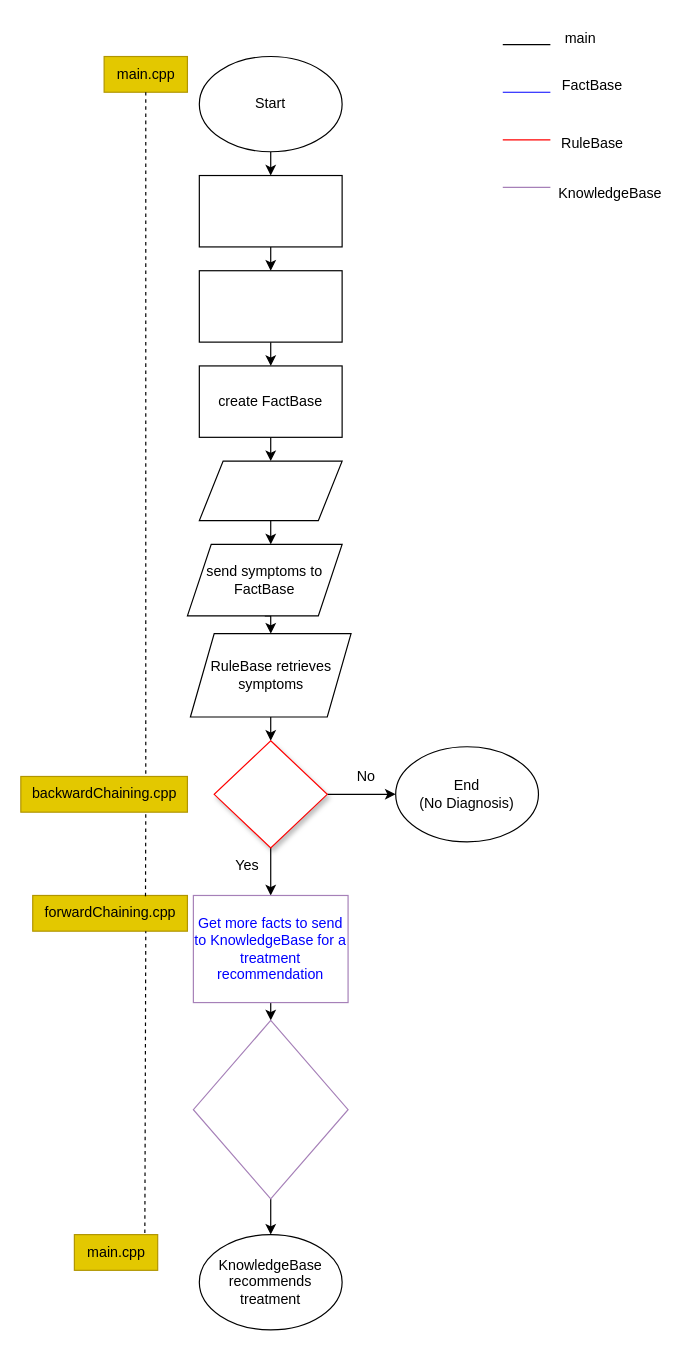
Image size: 696x1351. Some labels were removed from this diagram. Here are the shapes that lost their labels. From the top down, the centre of each, then its label:
the point at 270,210: create RuleBase
the point at 270,306: create KnowledgeBase
the point at 270,490: Greeting
the point at 271,795: Diagnosis?
the point at 270,1109: KnowledgeBase retrieves more Facts
